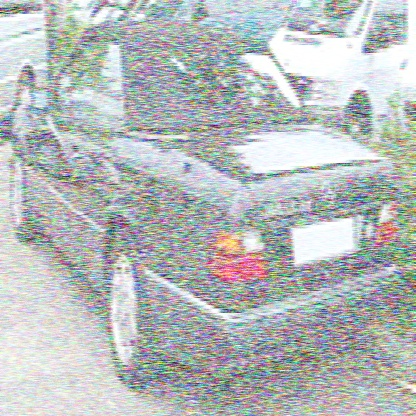Vehicle: (4, 11, 410, 406)
